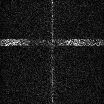wifi: (1, 38, 104, 45)
